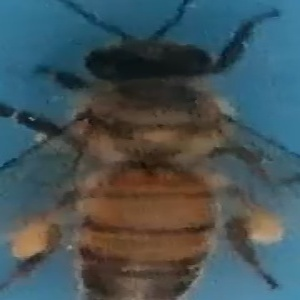bee: (22, 3, 288, 298)
